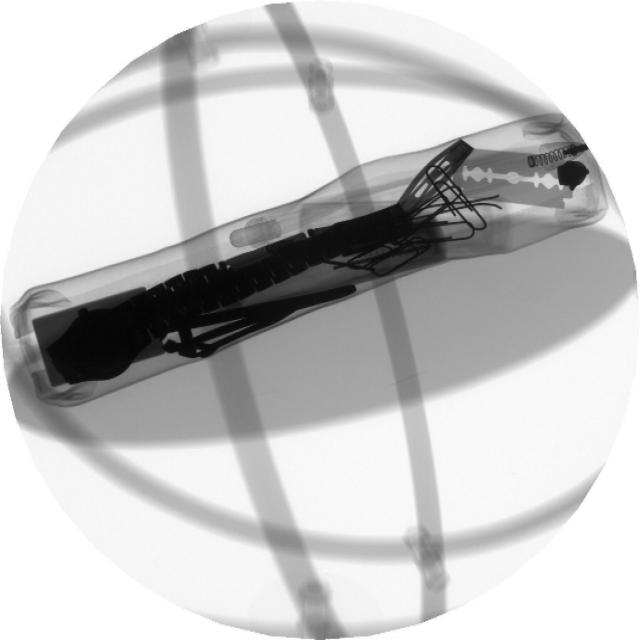BLADE: (440, 138, 598, 221)
